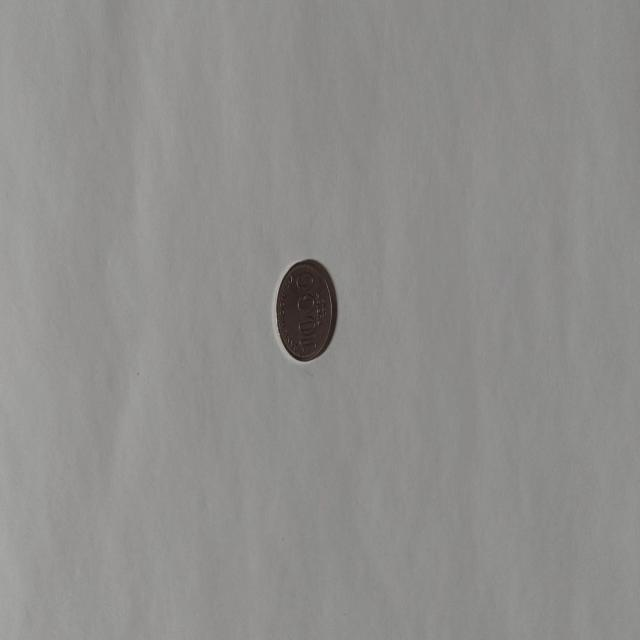seribu rupiah koin: (273, 256, 337, 364)
